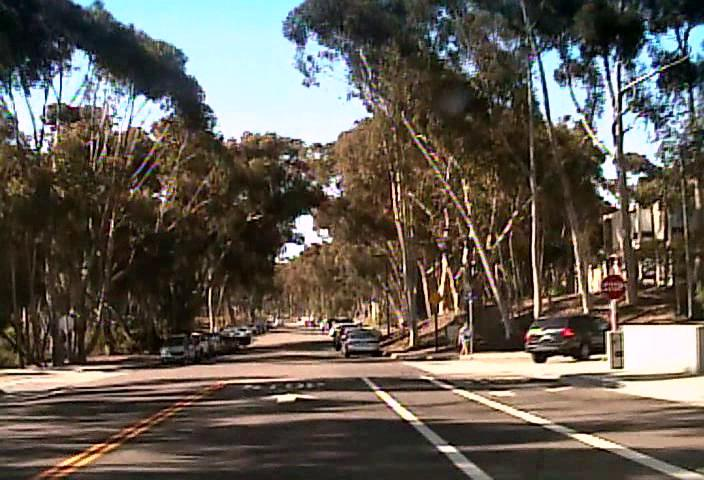stop: (599, 273, 626, 300)
